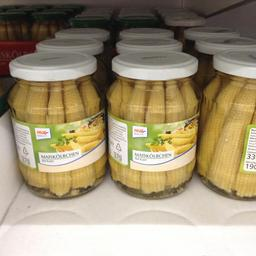corn: (4, 48, 106, 200), (105, 48, 202, 200), (198, 47, 255, 198)
